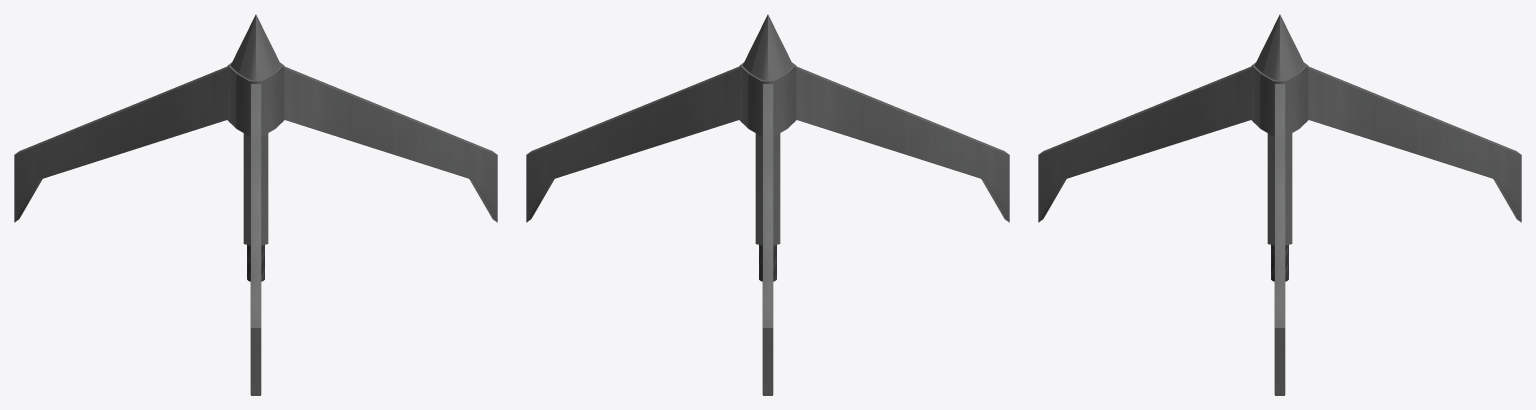
Rendered from wire.fbx.
3 renders of one model, left to right at view 1: azimuth 30°, elevation 25°; view 2: azimuth 150°, elevation 25°; view 3: azimuth 270°, elevation 25°, orthographic.
Visible parts, largest first — view 1: wirehook; view 2: wirehook; view 3: wirehook.
Boxes of the visible parts, x1,y1,x2,y2 form: wirehook: (14,14,497,395); wirehook: (526,14,1009,395); wirehook: (1038,14,1521,395).
Bounding box in the file's own units: 99.98 × 69.92 × 115.
Materials: 1 (1 with a texture image).
